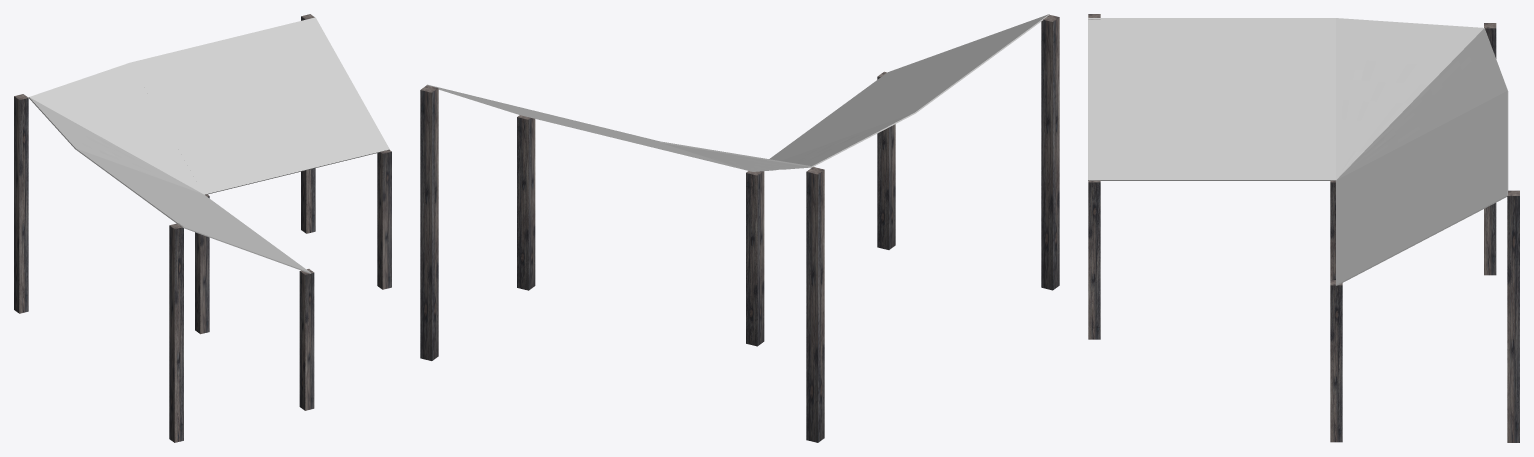
Rendered from blacksmith_canopy.fbx.
3 views of the same model, side by side, from view 1: azimuth 30°, elevation 25°; view 2: azimuth 150°, elevation 25°; view 3: azimuth 270°, elevation 25° (orthographic). The views are drawn at different scales.
Parts seen in each view (by area): view 1: RoofLeft.001, RoofCorner, RoofLeft, Post.004, Post.003, Post, Post.002, Post.001, Post.005; view 2: RoofLeft, Post.004, Post.005, Post.003, Post.001, Post.002, RoofCorner, Post, RoofLeft.001; view 3: RoofLeft, RoofCorner, RoofLeft.001, Post.005, Post.002, Post, Post.004, Post.001.
Boxes of the visible parts, bbox=[...] form: RoofLeft.001: bbox=[130, 17, 389, 194]; RoofCorner: bbox=[28, 62, 203, 194]; RoofLeft: bbox=[75, 148, 311, 273]; Post.004: bbox=[14, 94, 28, 313]; Post.003: bbox=[169, 223, 183, 442]; Post: bbox=[299, 269, 314, 410]; Post.002: bbox=[377, 150, 391, 289]; Post.001: bbox=[195, 194, 209, 334]; Post.005: bbox=[301, 14, 315, 233]; RoofLeft: bbox=[769, 14, 1049, 160]; Post.004: bbox=[806, 167, 824, 442]; Post.005: bbox=[420, 85, 438, 360]; Post.003: bbox=[1041, 14, 1059, 290]; Post.001: bbox=[746, 171, 764, 346]; Post.002: bbox=[517, 115, 535, 290]; RoofCorner: bbox=[660, 112, 915, 171]; Post: bbox=[877, 71, 895, 249]; RoofLeft.001: bbox=[427, 84, 748, 170]; RoofLeft: bbox=[1088, 18, 1335, 180]; RoofCorner: bbox=[1336, 18, 1507, 179]; RoofLeft.001: bbox=[1336, 90, 1508, 285]; Post.005: bbox=[1507, 190, 1519, 442]; Post.002: bbox=[1330, 280, 1342, 442]; Post: bbox=[1088, 180, 1100, 339]; Post.004: bbox=[1484, 23, 1496, 275]; Post.001: bbox=[1330, 180, 1335, 279].
Bounding box in the file's own units: 347 × 221 × 348.
